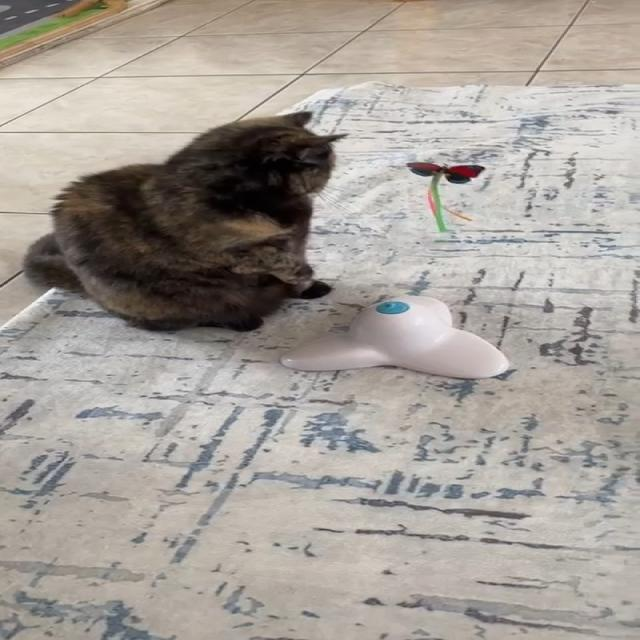authorized: (20, 110, 351, 332)
